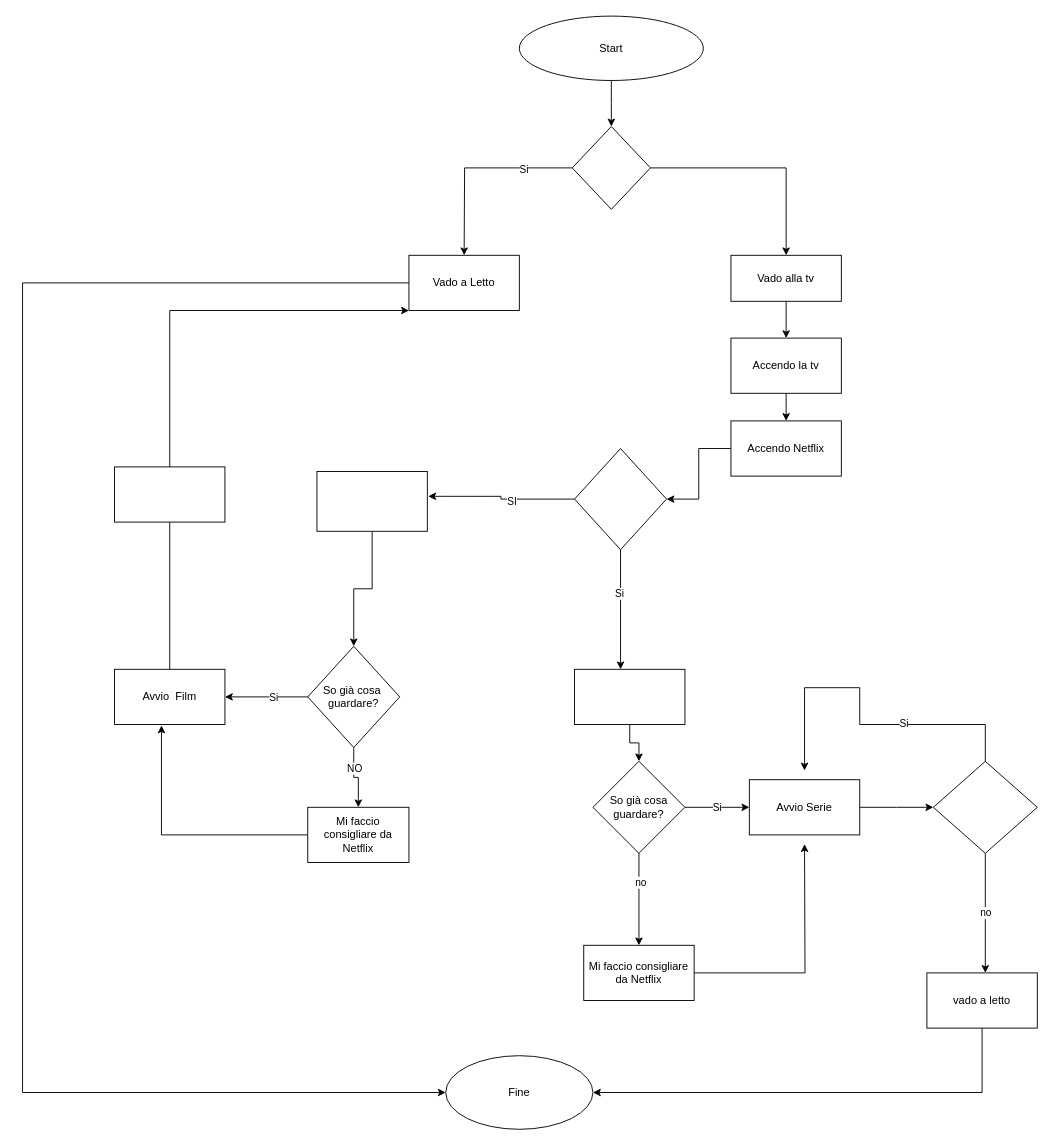
The diagram is 1053 pixels wide and 1145 high, and some of its shapes have lost their labels. The centre of each missing label's shape, as x and y in pixels:
Film: point (371, 501)
Guardo il film: point (169, 494)
Guardo un altra puntata?: point (984, 806)
ho sonno?: point (610, 167)
Ho tanto tempo?: point (620, 499)
Serie Tv: point (629, 696)
